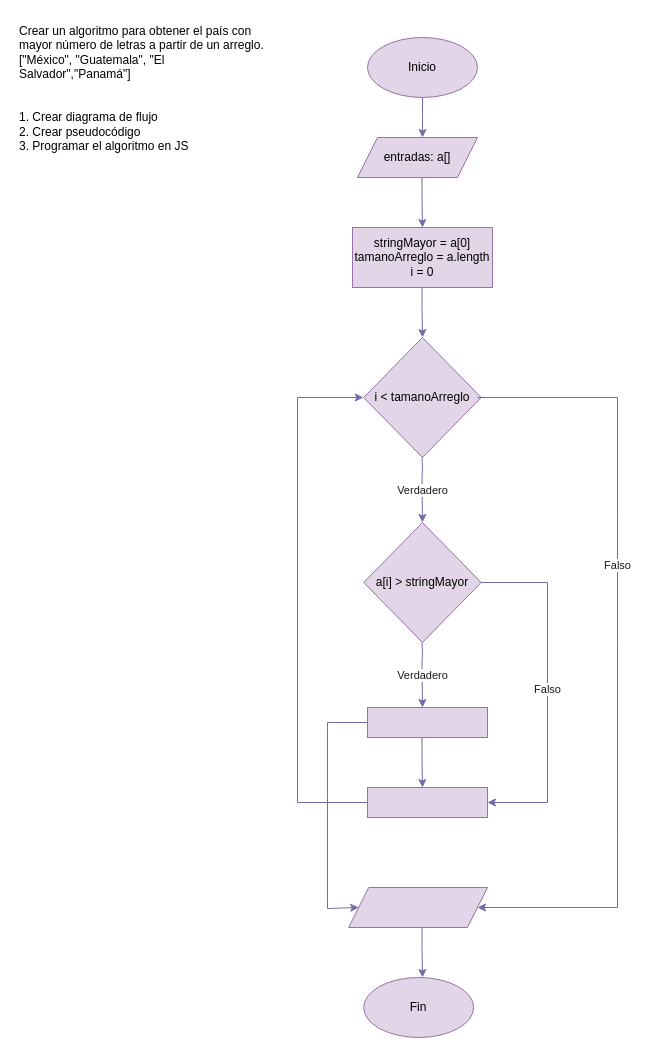
The diagram is 648 pixels wide and 1055 high, and some of its shapes have lost their labels. Each missing label, with the centre of its shape:
i = i + 1: the point at 427,802
salida: stringMayor: the point at 418,907
stringMayor = a[i]: the point at 427,722
